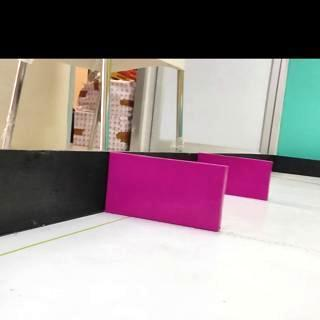xparking: (105, 151, 227, 232), (226, 156, 272, 201)
